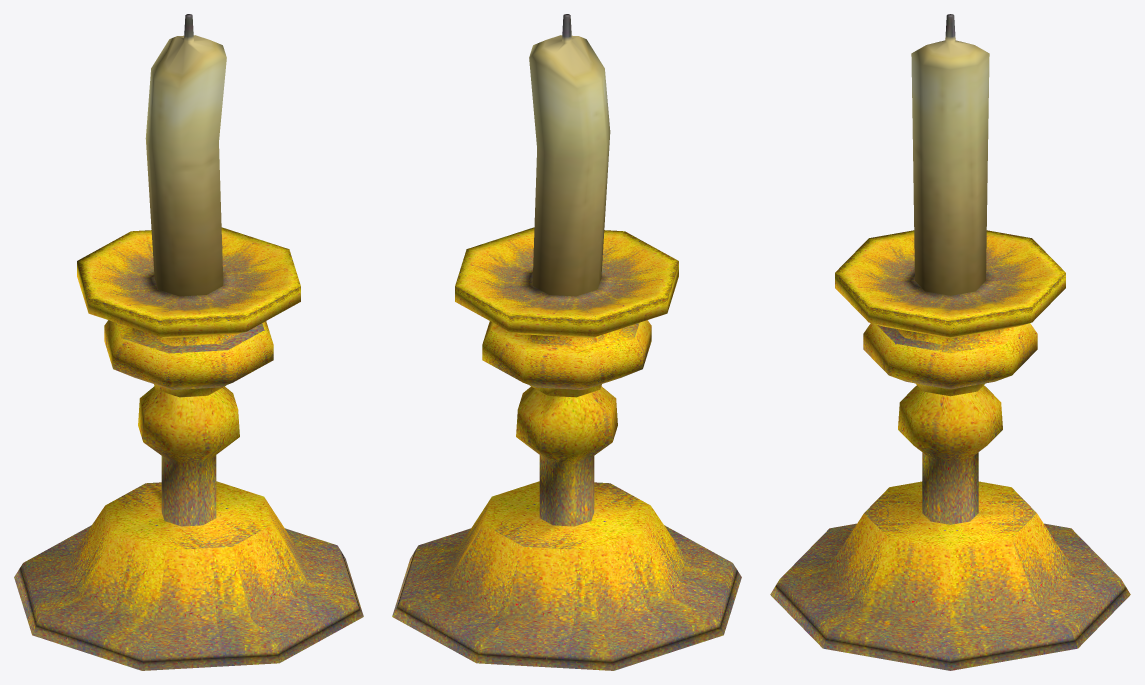
The model's file is tavern_candle.fbx.
3 renders of one model, left to right at view 1: azimuth 30°, elevation 25°; view 2: azimuth 150°, elevation 25°; view 3: azimuth 270°, elevation 25°, orthographic.
Visible parts, largest first — view 1: Default_Layer; view 2: Default_Layer; view 3: Default_Layer.
Part boxes in pixels (left/top/right/bottom): Default_Layer: left=14, top=14, right=363, bottom=670; Default_Layer: left=392, top=14, right=741, bottom=670; Default_Layer: left=770, top=14, right=1130, bottom=670.
Bounding box in the file's own units: 11.33 × 20.07 × 11.33.
Materials: 1 (1 with a texture image).
